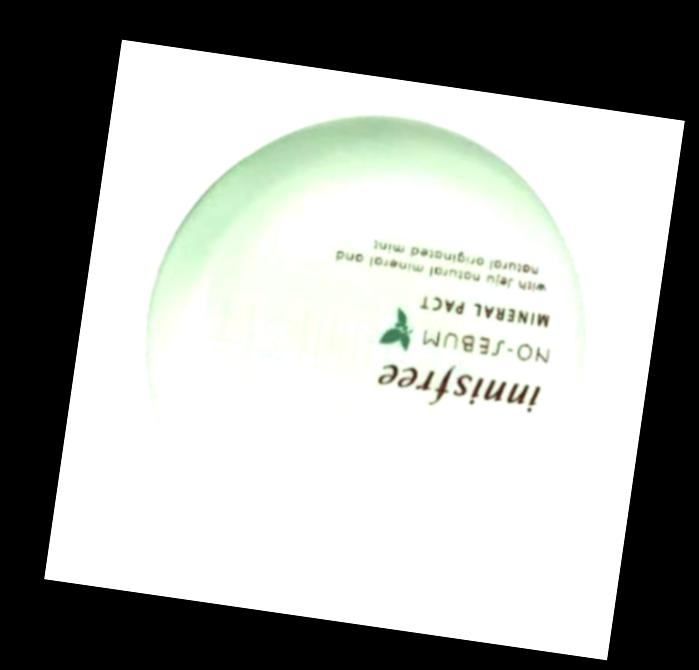cosmetic: (110, 82, 619, 601)
